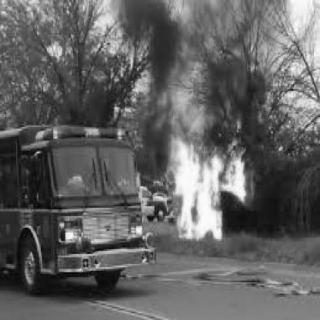Fire: (140, 105, 272, 242)
Smoke: (120, 2, 191, 136)
